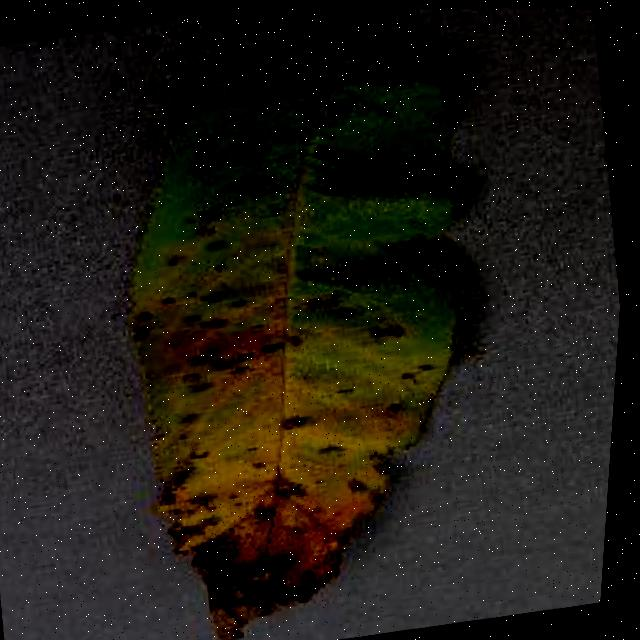Bacterial_spot: (76, 107, 527, 640)
